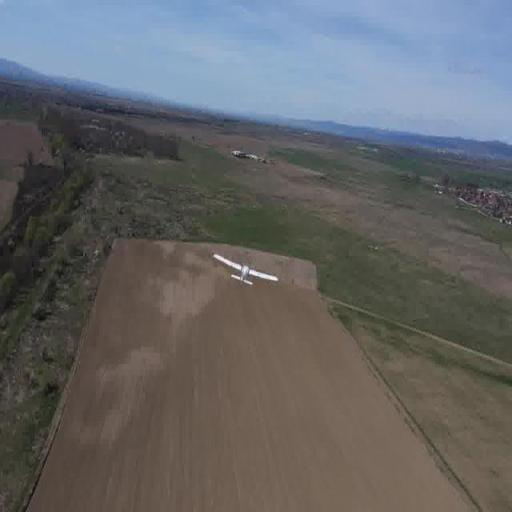uav: (212, 251, 282, 302)
